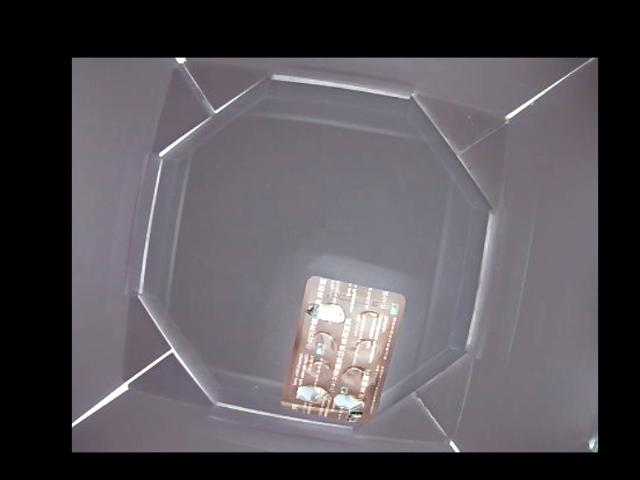Medicine: (280, 274, 408, 426)
